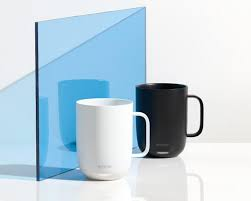cup: (74, 97, 154, 182)
